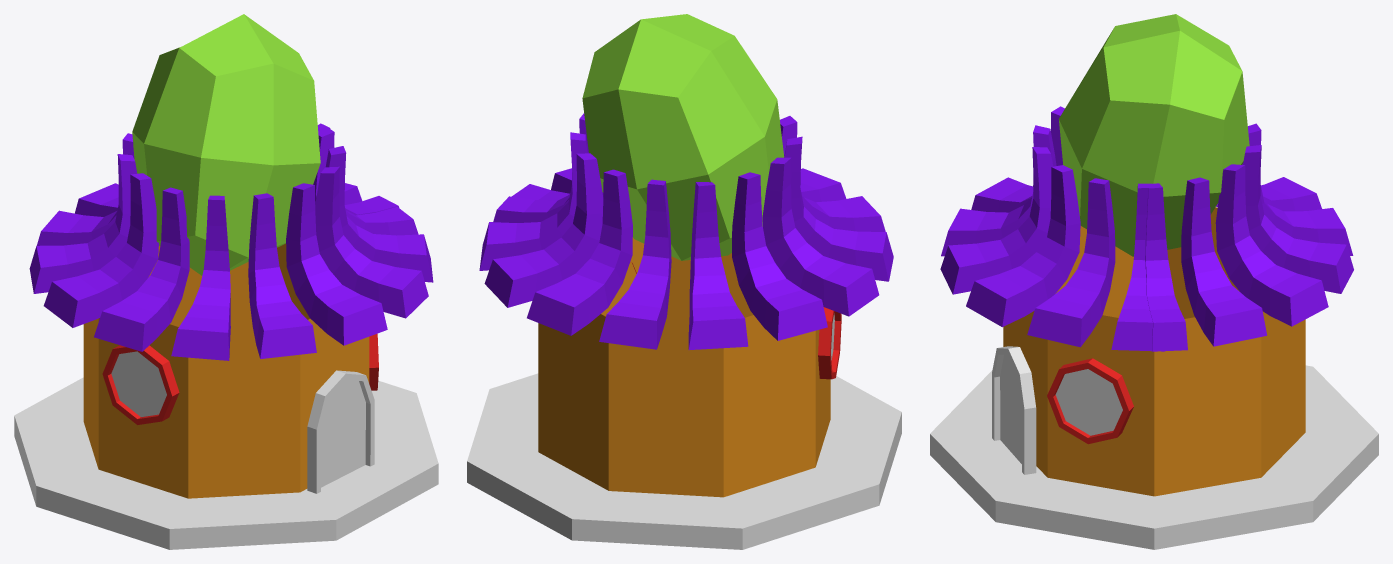
The model's file is SM_TribouliHouse_001.fbx.
3 renders of one model, left to right at view 1: azimuth 30°, elevation 25°; view 2: azimuth 150°, elevation 25°; view 3: azimuth 270°, elevation 25°, orthographic. The views are drawn at different scales.
Visible parts, largest first — view 1: Cube.003, Cylinder.002, Cube.004, Plane.053, Cylinder.004, Cylinder.003, Cylinder.005; view 2: Cube.003, Cylinder.002, Plane.053, Cube.004, Cylinder.003; view 3: Cube.003, Cylinder.002, Plane.053, Cube.004, Cylinder.005, Cylinder.004.
Boxes of the visible parts, bbox=[...] form: Cube.003: bbox=[29, 123, 433, 360]; Cylinder.002: bbox=[83, 243, 369, 498]; Cube.004: bbox=[132, 14, 320, 275]; Plane.053: bbox=[14, 377, 438, 549]; Cylinder.004: bbox=[307, 370, 374, 493]; Cylinder.003: bbox=[102, 345, 179, 424]; Cylinder.005: bbox=[369, 333, 378, 390]; Cube.003: bbox=[479, 113, 893, 349]; Cylinder.002: bbox=[538, 237, 830, 497]; Plane.053: bbox=[467, 373, 901, 549]; Cube.004: bbox=[582, 14, 784, 260]; Cylinder.003: bbox=[818, 307, 841, 379]; Cube.003: bbox=[940, 106, 1353, 351]; Cylinder.002: bbox=[1003, 207, 1305, 496]; Plane.053: bbox=[930, 365, 1378, 549]; Cube.004: bbox=[1059, 14, 1249, 256]; Cylinder.005: bbox=[1047, 358, 1133, 444]; Cylinder.004: bbox=[992, 346, 1036, 474].
Size of the model in its own units: 297 by 321 by 297.
